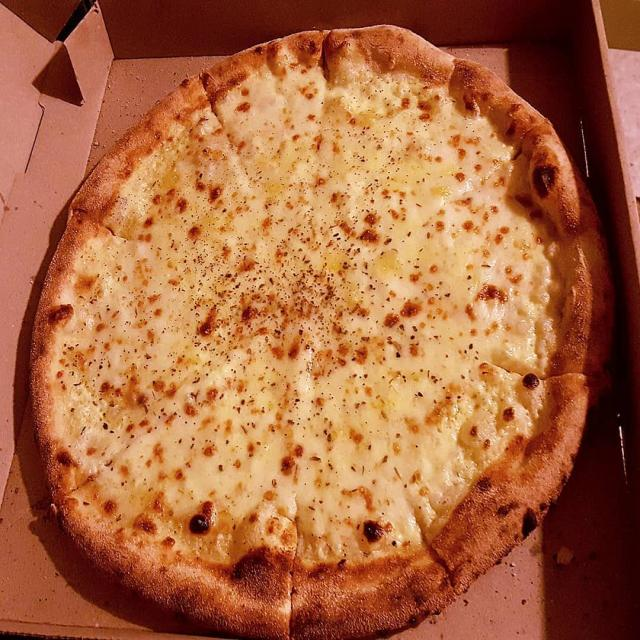pizza: (25, 21, 595, 640)
